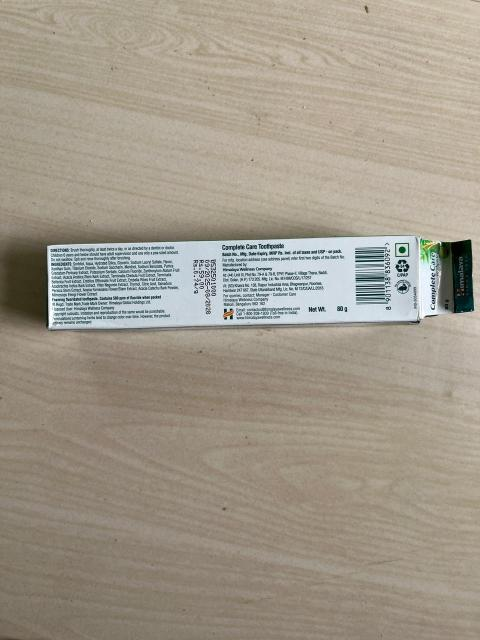himalaya toothpaste: (46, 239, 418, 328)
